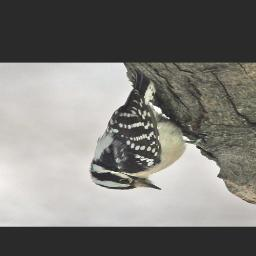Woodpecker: (86, 67, 219, 193)
